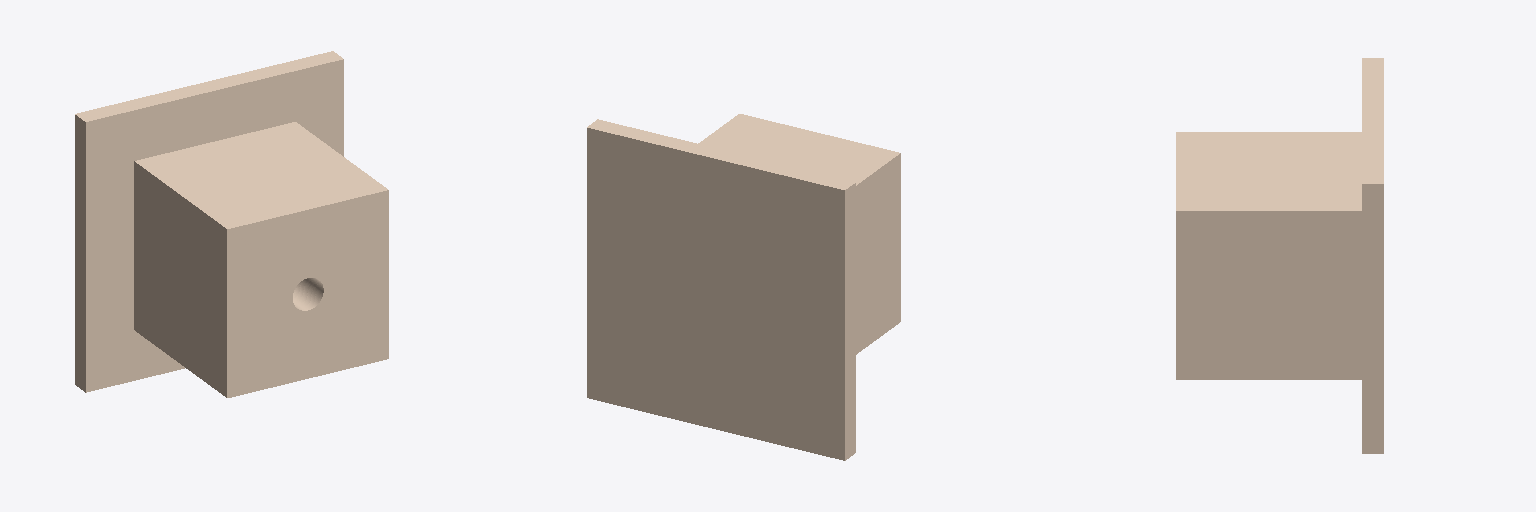
The model's file is industreal_tray_pick_round_peg_4mm.obj.
3 views of the same model, side by side, from view 1: azimuth 30°, elevation 25°; view 2: azimuth 150°, elevation 25°; view 3: azimuth 270°, elevation 25° (orthographic).
Visible parts, largest first — view 1: industreal_tray_pick_round_peg_4mm; view 2: industreal_tray_pick_round_peg_4mm; view 3: industreal_tray_pick_round_peg_4mm.
Part boxes in pixels (bbox=[...]): industreal_tray_pick_round_peg_4mm: bbox=[75, 51, 388, 397]; industreal_tray_pick_round_peg_4mm: bbox=[587, 114, 900, 460]; industreal_tray_pick_round_peg_4mm: bbox=[1176, 58, 1383, 453].
Size of the model in its own units: 0.04 by 0.04 by 0.028.